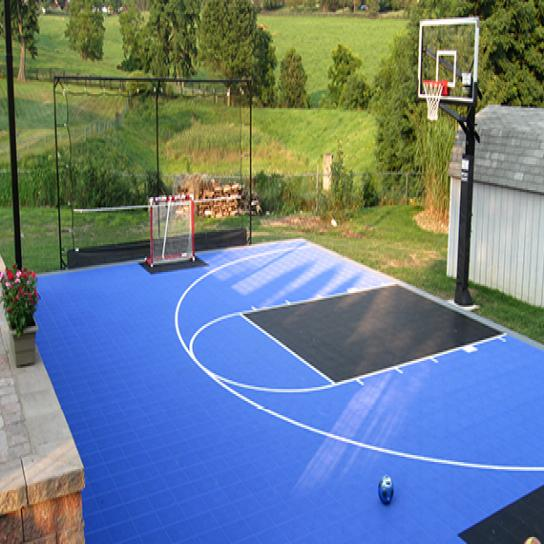basketball-hoop: (421, 77, 445, 122)
